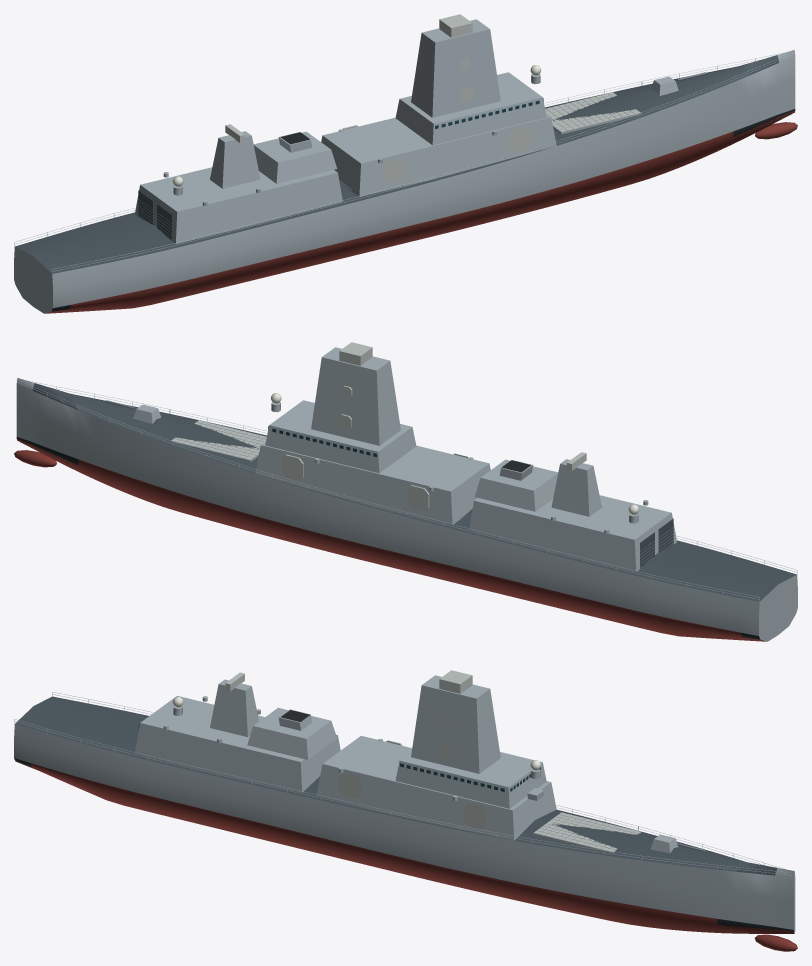
The model's file is pla_ddg_type055.glb.
3 views of the same model, one above another, from view 1: azimuth 30°, elevation 25°; view 2: azimuth 150°, elevation 25°; view 3: azimuth 330°, elevation 25° (orthographic).
Visible parts, largest first — view 1: naval_paint, deck_non_skid, antifouling, array_face; view 2: naval_paint, deck_non_skid, antifouling, array_face; view 3: naval_paint, antifouling, deck_non_skid, array_face.
Boxes of the visible parts, x1,y1,x2,y2 form: naval_paint: (14,19,795,313); deck_non_skid: (15,55,779,273); antifouling: (45,110,797,313); array_face: (225,14,640,183); naval_paint: (16,347,797,641); deck_non_skid: (32,383,796,601); antifouling: (14,438,766,641); array_face: (171,342,586,511); naval_paint: (14,675,795,933); antifouling: (20,763,797,951); deck_non_skid: (15,696,776,875); array_face: (225,670,640,852).
Bounding box in the file's own units: 10 × 2.48 × 1.11.
